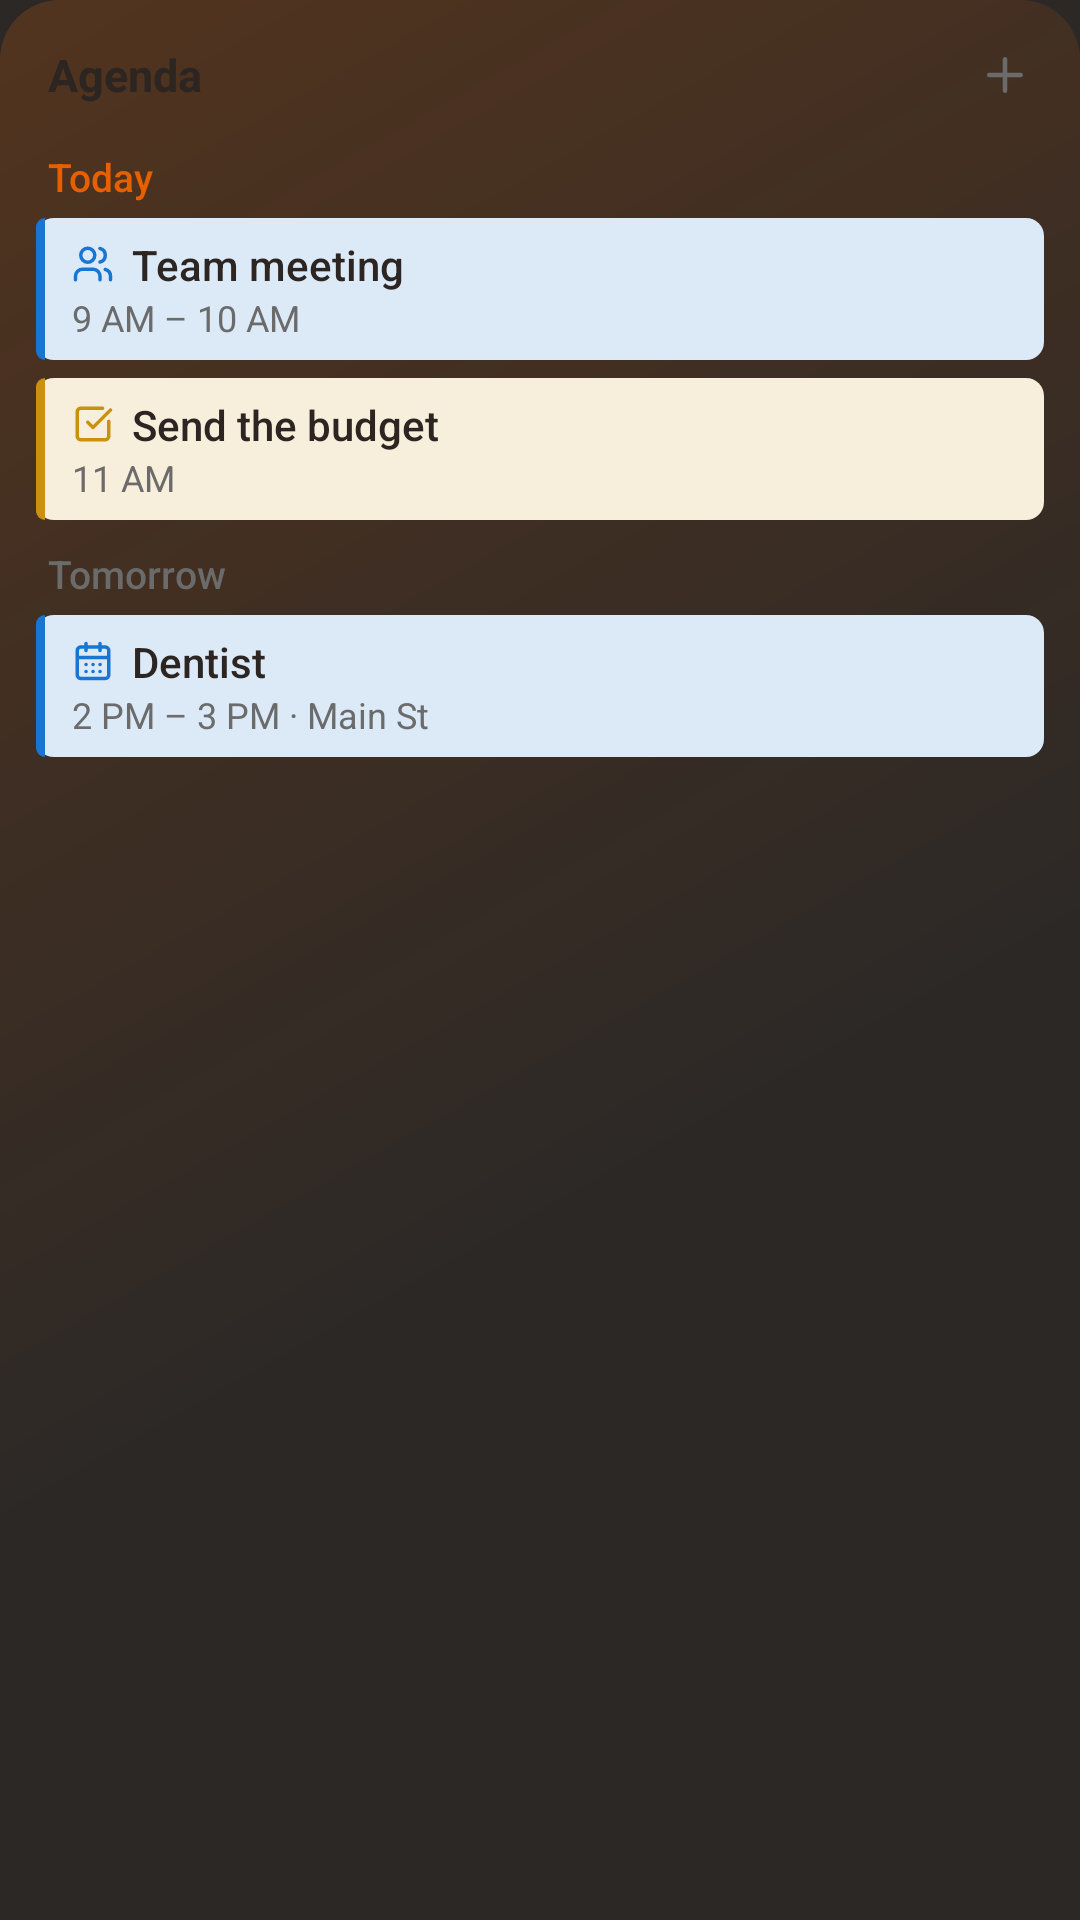

Named icons in this screenshot (1080px x 1920px) and their centers, point (x, y):
plus: point (1005, 75)
